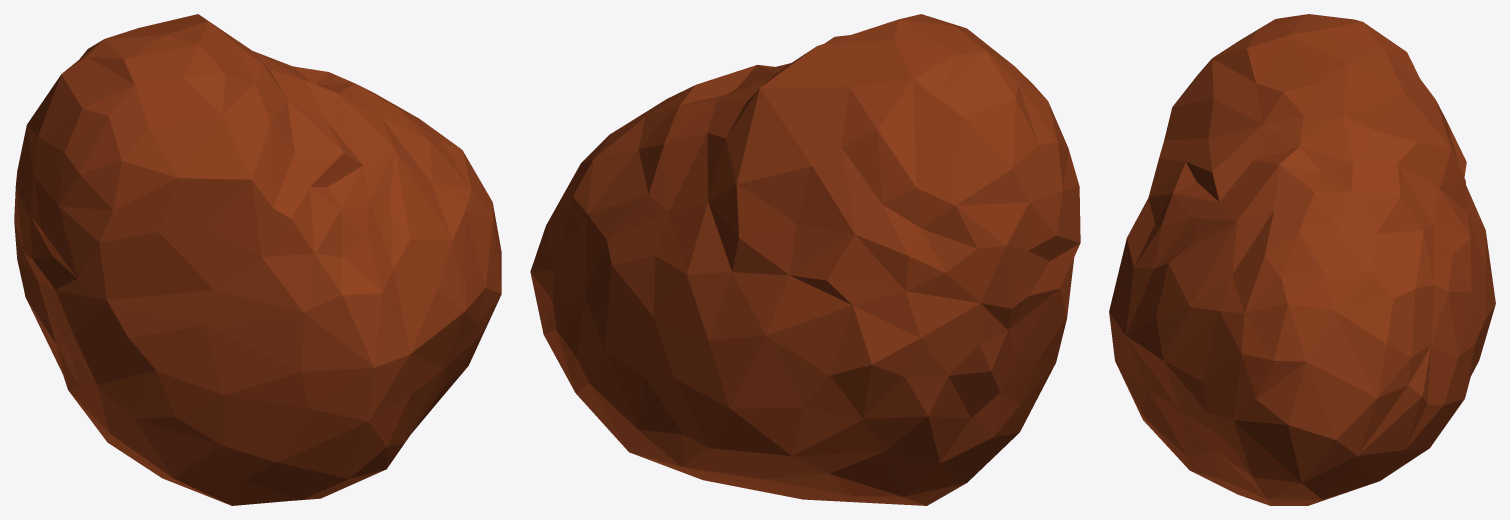
File: rock_2.gltf
3 renders of one model, left to right at view 1: azimuth 30°, elevation 25°; view 2: azimuth 150°, elevation 25°; view 3: azimuth 270°, elevation 25°, orthographic. The views are drawn at different scales.
Visible parts, largest first — view 1: rock lp; view 2: rock lp; view 3: rock lp.
Part boxes in pixels (x1,y1,x2,y2): rock lp: [14, 14, 501, 505]; rock lp: [530, 14, 1080, 505]; rock lp: [1109, 14, 1495, 505].
Bounding box in the file's own units: 1.02 × 0.9606 × 0.8412.
